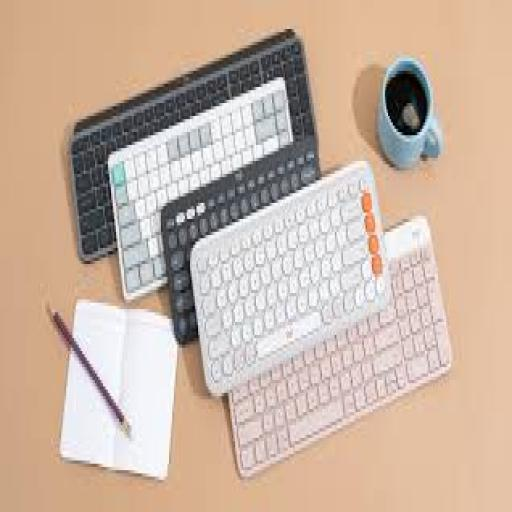KEYBOARD-2: (229, 216, 451, 477), (69, 29, 314, 261), (192, 161, 390, 393), (109, 77, 291, 296), (163, 135, 319, 341)
